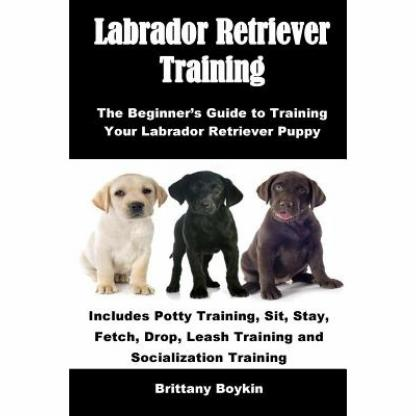Labarador Retriever: (239, 170, 342, 298), (82, 172, 168, 296), (166, 160, 246, 291)
